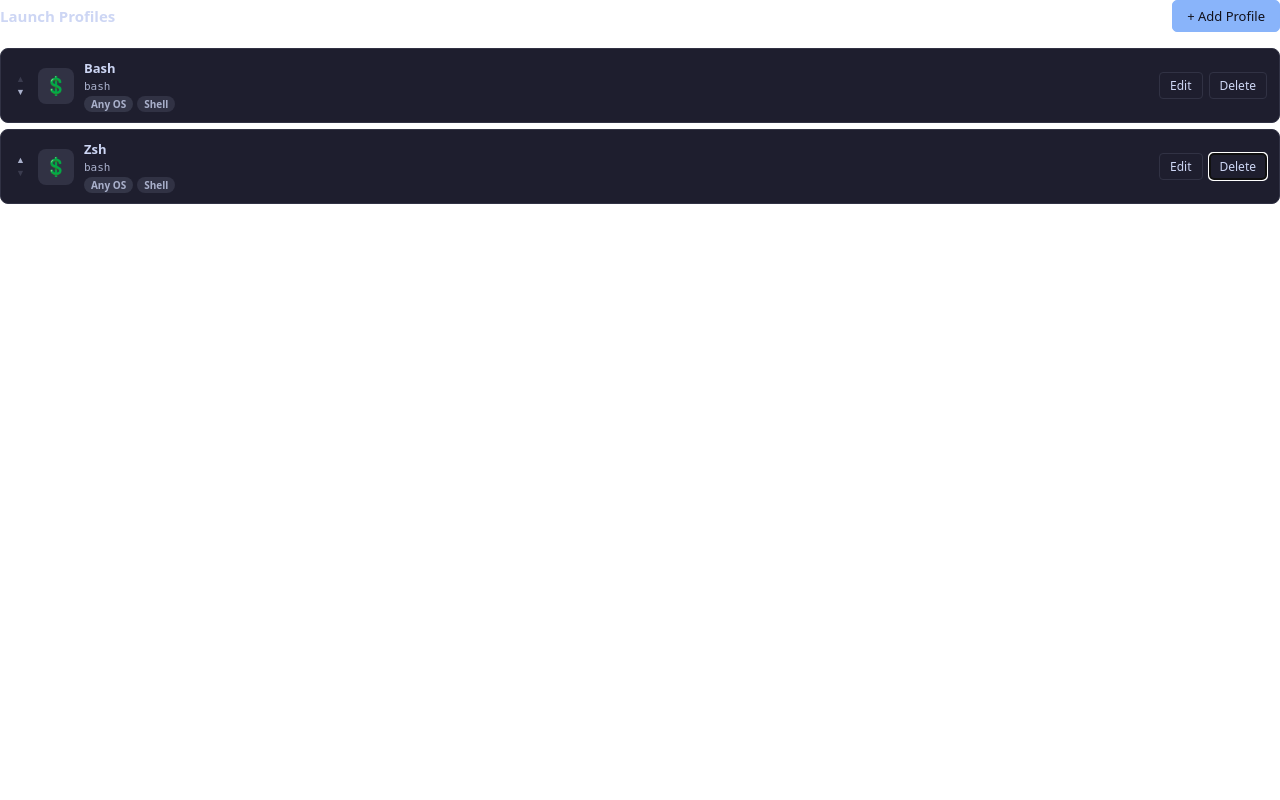
Test case: Deleting a profile › cancels on Esc, which it keeps, and gives the keyboard back to the Delete button
Click the button with aria-label "Delete profile" at (1238, 166), box [1208,153,1267,180]
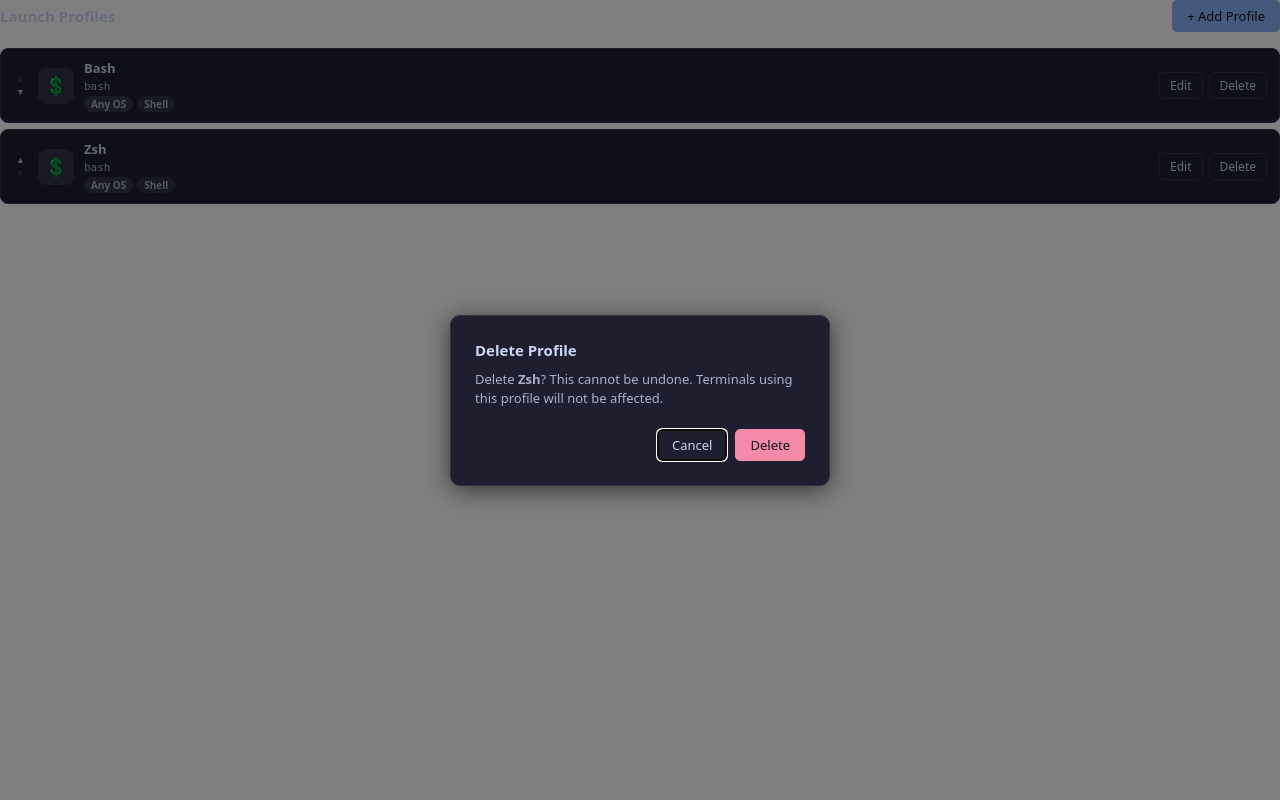
Press Escape in the button "Cancel", box [657,428,728,460]
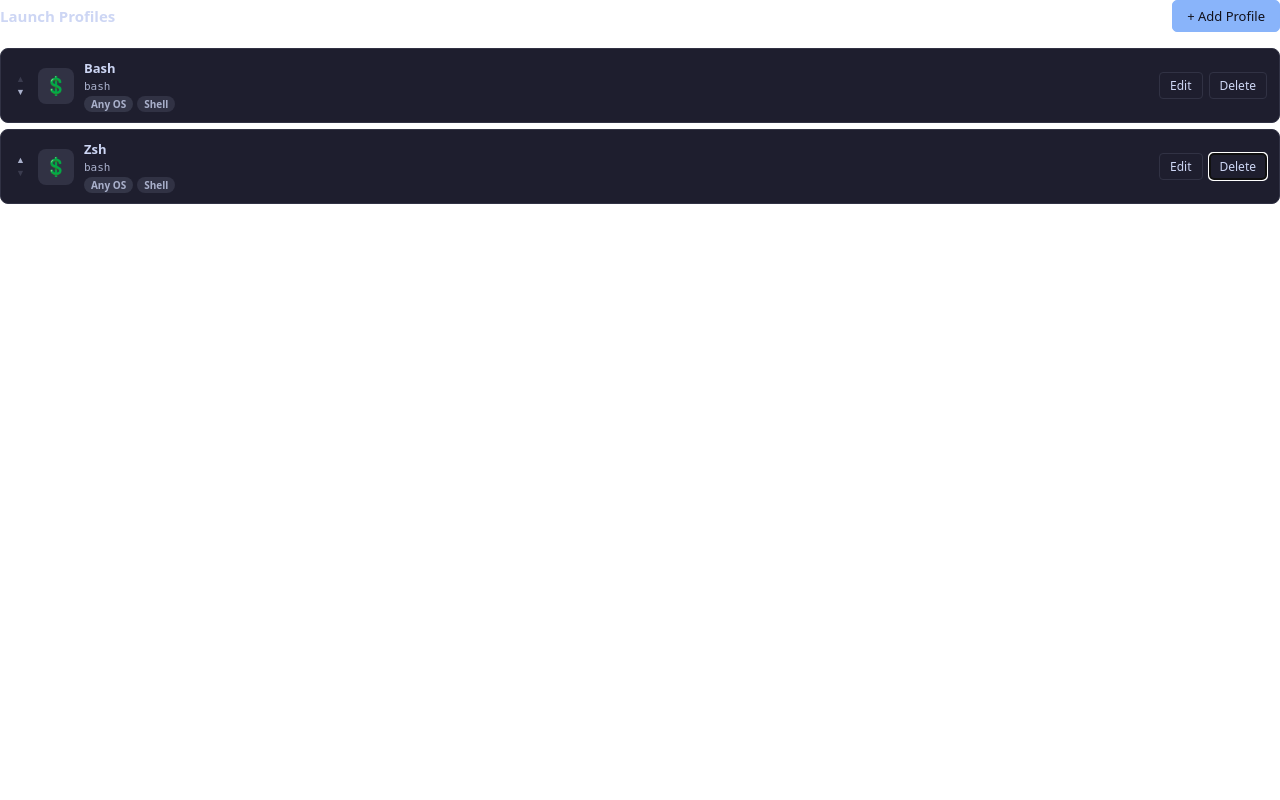
Now the dialog is gone
